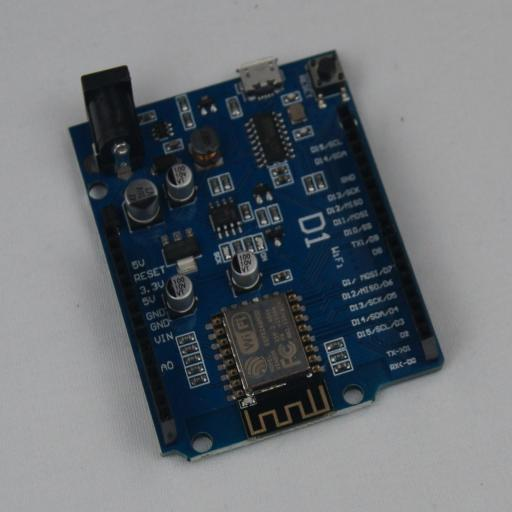Arduino Uno WiFi Shield: (68, 50, 444, 461)
